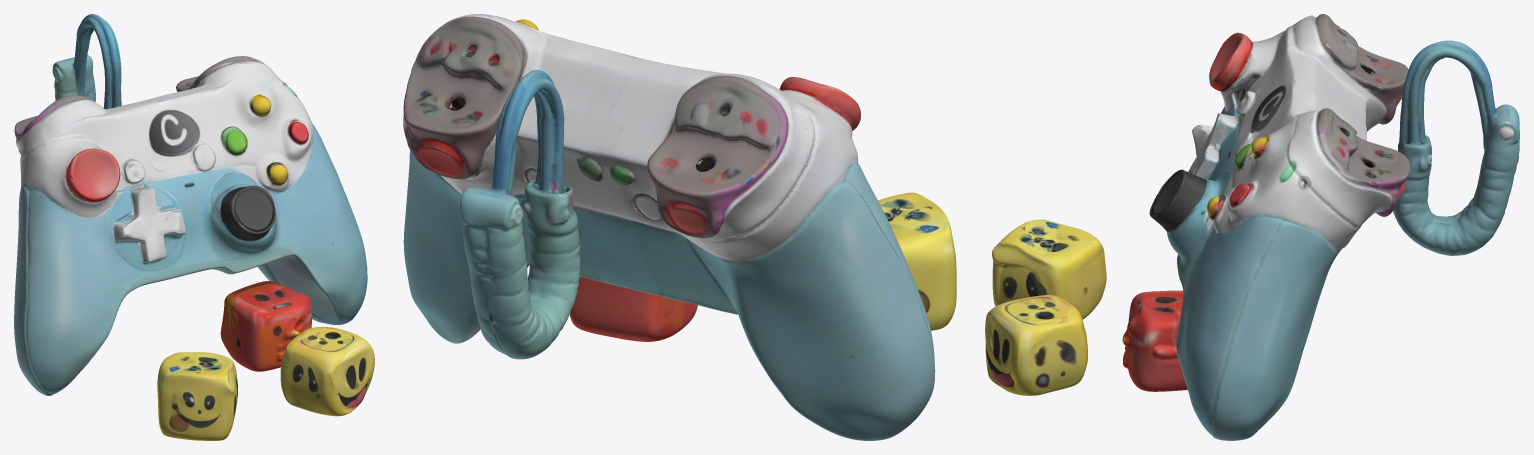
File: game.glb
3 renders of one model, left to right at view 1: azimuth 30°, elevation 25°; view 2: azimuth 150°, elevation 25°; view 3: azimuth 270°, elevation 25°, orthographic. The views are drawn at different scales.
Size of the model in its own units: 55930 by 42819 by 65398.
Materials: 1 (1 with a texture image).
